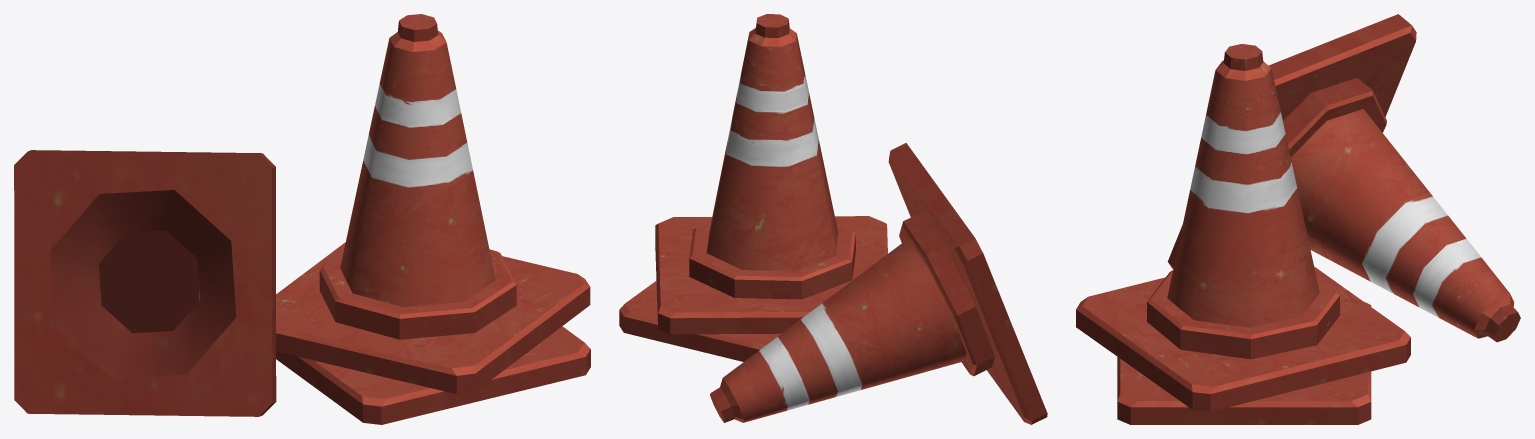
3 views of the same model, side by side, from view 1: azimuth 30°, elevation 25°; view 2: azimuth 150°, elevation 25°; view 3: azimuth 270°, elevation 25° (orthographic). The views are drawn at different scales.
Parts seen in each view (by area): view 1: J_A01; view 2: J_A01; view 3: J_A01.
Part boxes in pixels (box(x1,y1,x2,y2)): J_A01: box(14, 14, 590, 424); J_A01: box(619, 14, 1047, 424); J_A01: box(1076, 14, 1520, 424).
Bounding box in the file's own units: 133 × 85.54 × 105.
